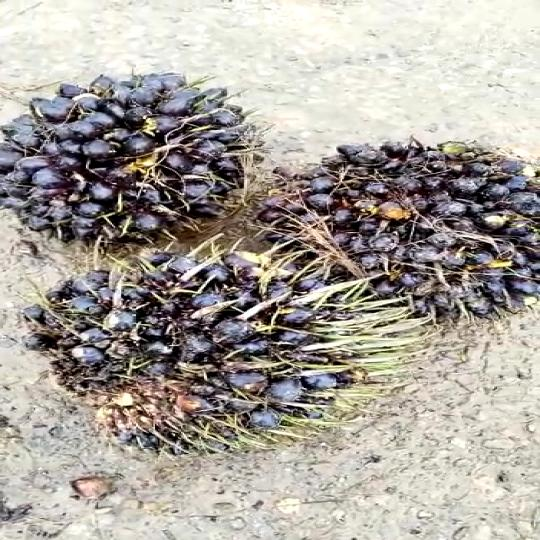mentah: (30, 248, 378, 451), (280, 138, 540, 316), (1, 73, 262, 232)
